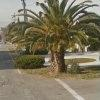Palm tree: (16, 1, 88, 85)
